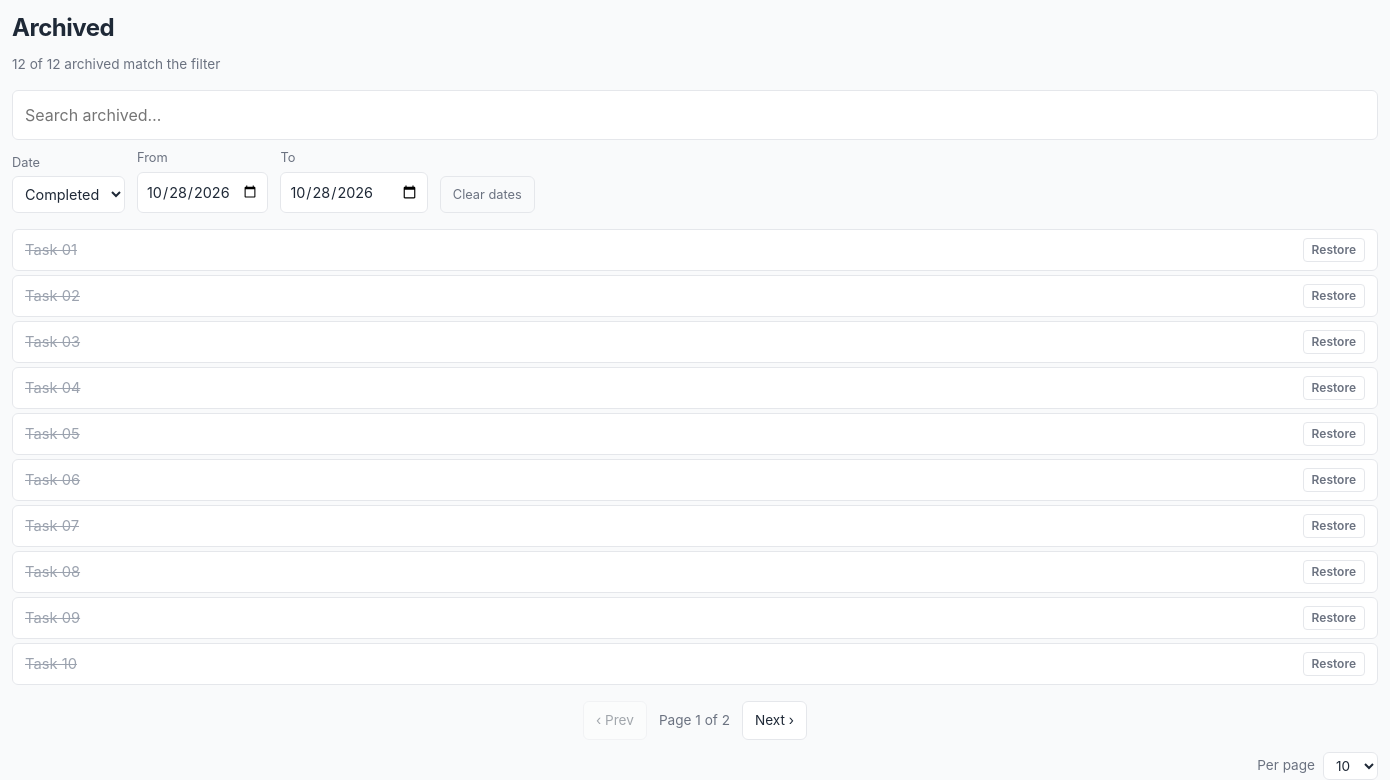
Test: ArchivedView — search + pagination (#92) › changes the page size, collapsing to a single page
Select "30" in the dropdown named "tasks per page". click: (1350, 766)
box: left=1323, top=752, right=1378, bottom=779
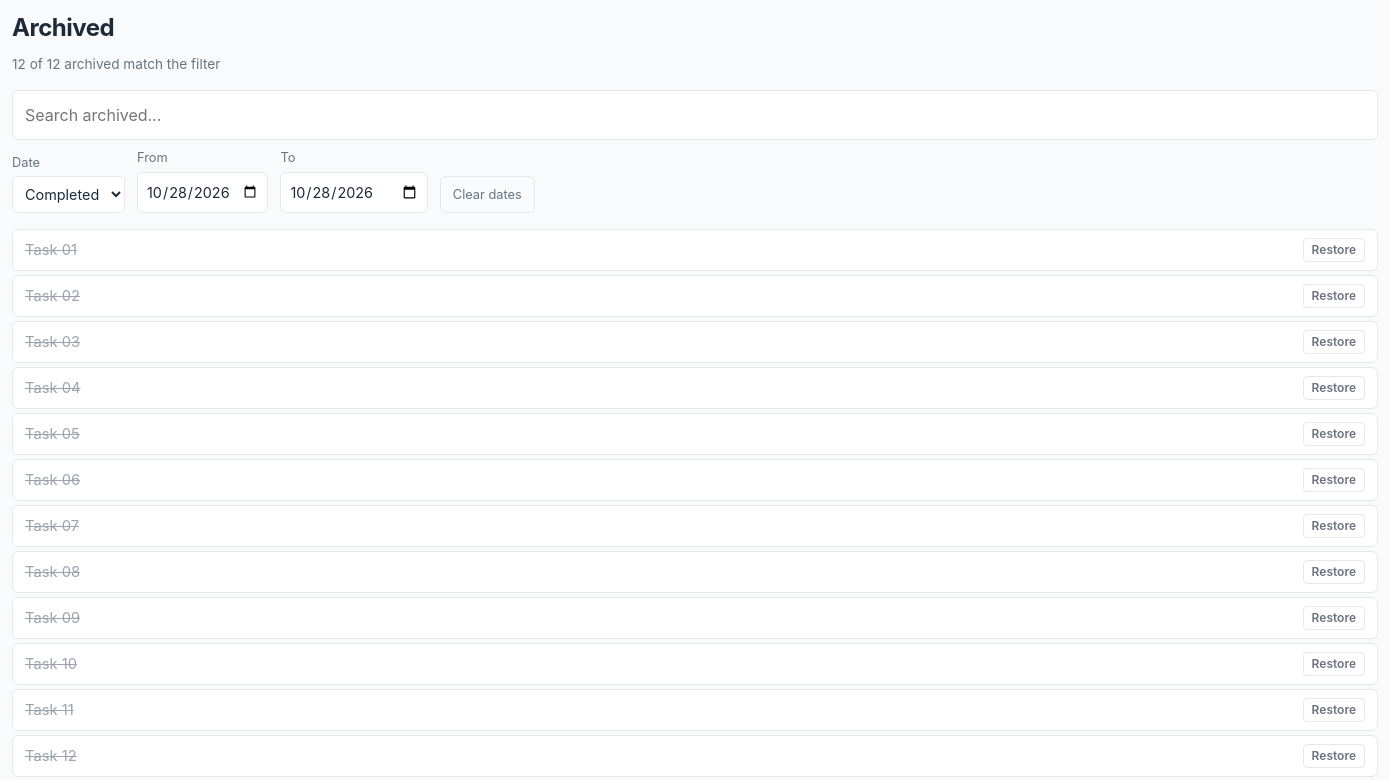
Expected: the text "Page 1 of 2" is gone
